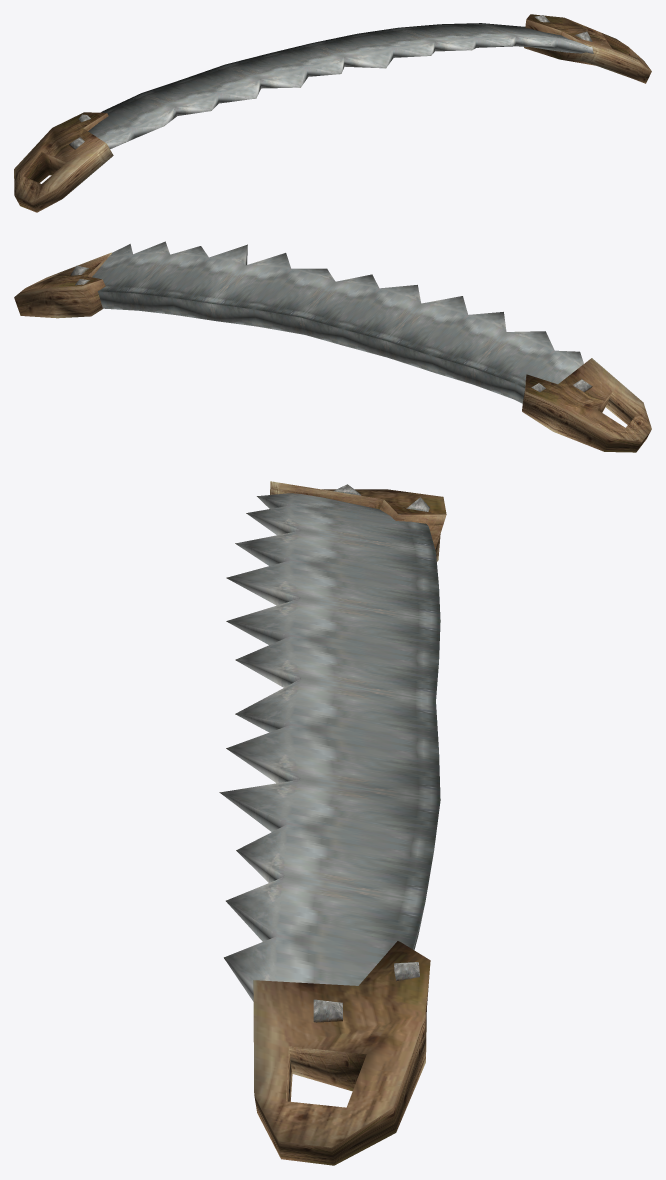
Rendered from stonetalontools_saw01.glb.
3 renders of one model, top to bottom at view 1: azimuth 30°, elevation 25°; view 2: azimuth 150°, elevation 25°; view 3: azimuth 270°, elevation 25°, orthographic. The views are drawn at different scales.
Size of the model in its own units: 16.97 by 2.54 by 2.68.
2 materials, 2 textured.
